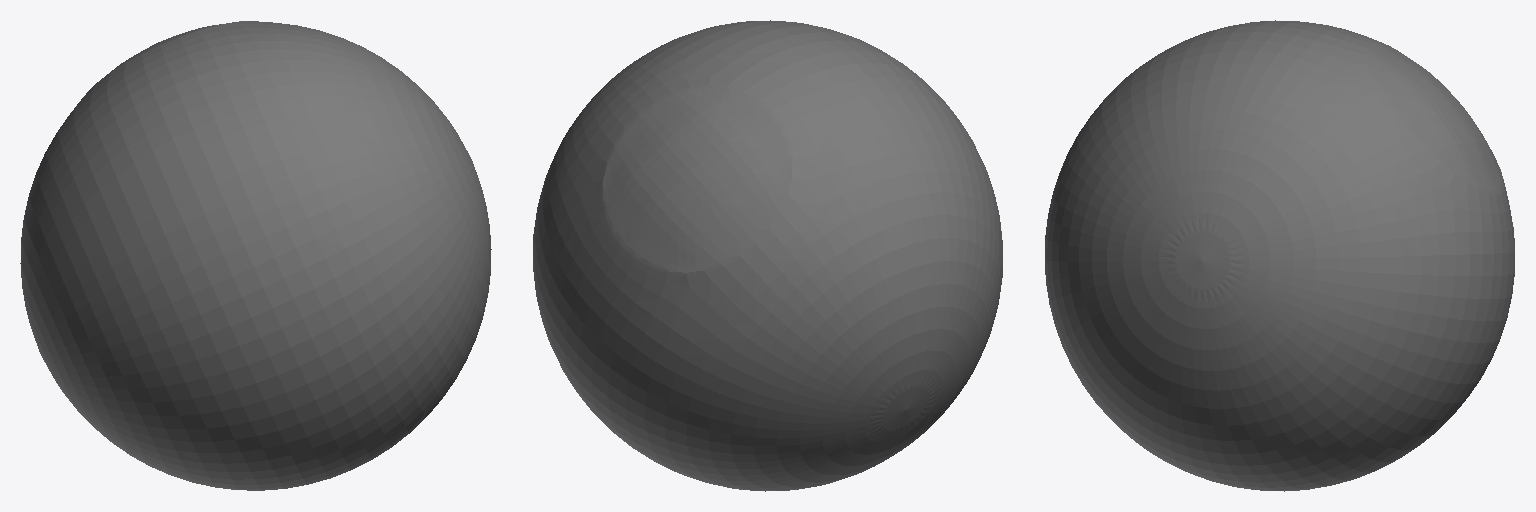
The robot description file, URDF, robot "12_ball":
<?xml version="1.0"?>
<robot name="12_ball">
  <link name="base">
    <visual>
      <geometry>
        <mesh filename="12_ball.obj" scale="1 1 1"/>
      </geometry>
      <material name="gray">
        <color rgba="0.5 0.5 0.5 1.0"/>
      </material>
    </visual>
    <collision>
      <geometry>
        <mesh filename="12_ball.obj" scale="1 1 1"/>
      </geometry>
    </collision>
    <inertial>
      <mass value="1.000"/>
      <inertia
          ixx="0.001029" ixy="0.000000" ixz="0.000000"
          iyy="0.001034" iyz="0.000000"
          izz="0.001033"/>
      <origin xyz="-0.086861 -0.041230 0.833085" rpy="0 0 0"/>
    </inertial>
  </link>
</robot>

--- What the picture shows (computed from the rendered views, not written in the file) ---
Views: 3 orthographic renders of the robot side by side, from view 1: azimuth 30°, elevation 25°; view 2: azimuth 150°, elevation 25°; view 3: azimuth 270°, elevation 25°.
Model 12_ball with 1 links and 0 joints (none), rooted at base, posed every joint at zero.
Visible links, largest first — view 1: base; view 2: base; view 3: base.
Link boxes in pixels (<box>): base: <box>20,21,491,490</box>; base: <box>533,20,1002,491</box>; base: <box>1045,20,1514,491</box>.
Bounding box of the posed robot: 0.0789 × 0.0785 × 0.0786 m (x, y, z).
Meshes: 1 distinct files referenced, 1 mesh visuals loaded (1 OBJ).
